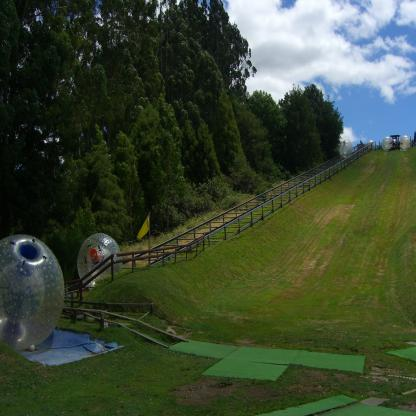Ball: (0, 233, 64, 353), (77, 234, 123, 285), (338, 140, 352, 160), (382, 135, 393, 153), (400, 136, 410, 152)
